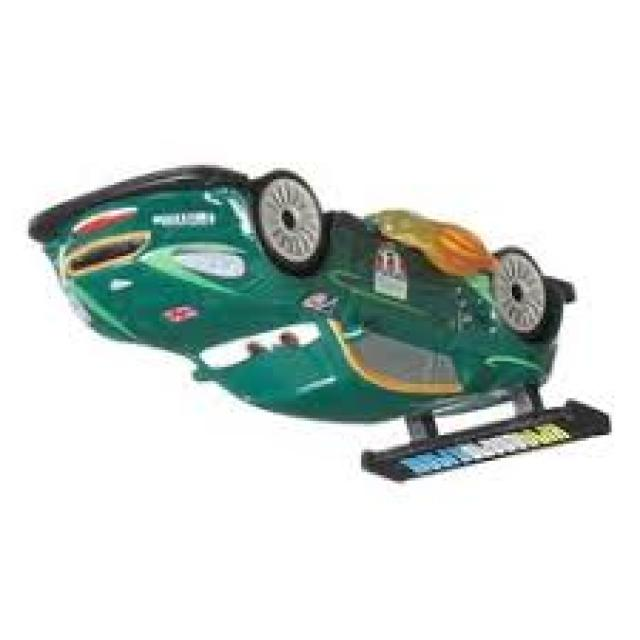Car: (29, 168, 612, 486)
